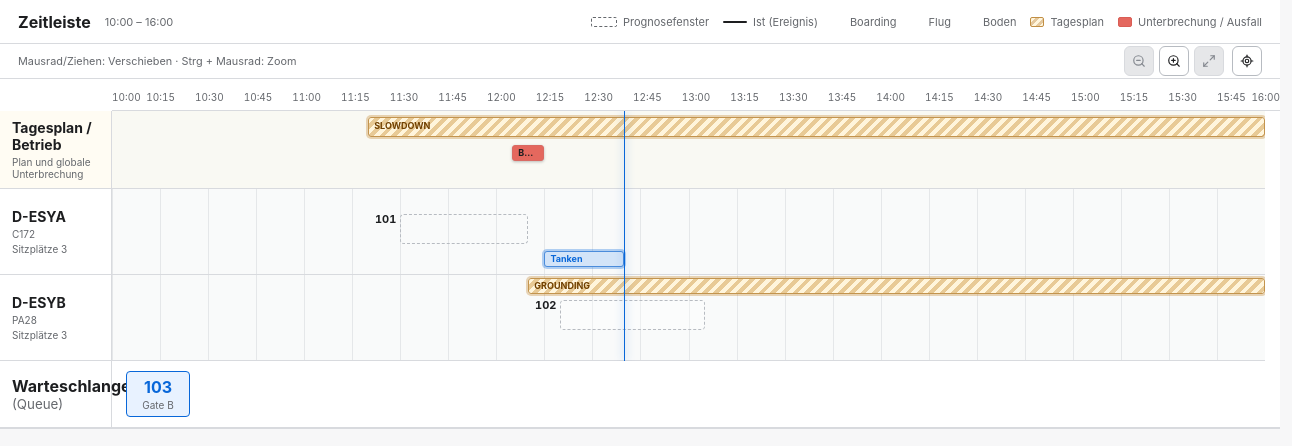
forecast timeline › labels an unavailable boarding forecast without presenting snapshot quality
Focus the button named "103Gate B": (158, 394) [126, 371, 190, 417]
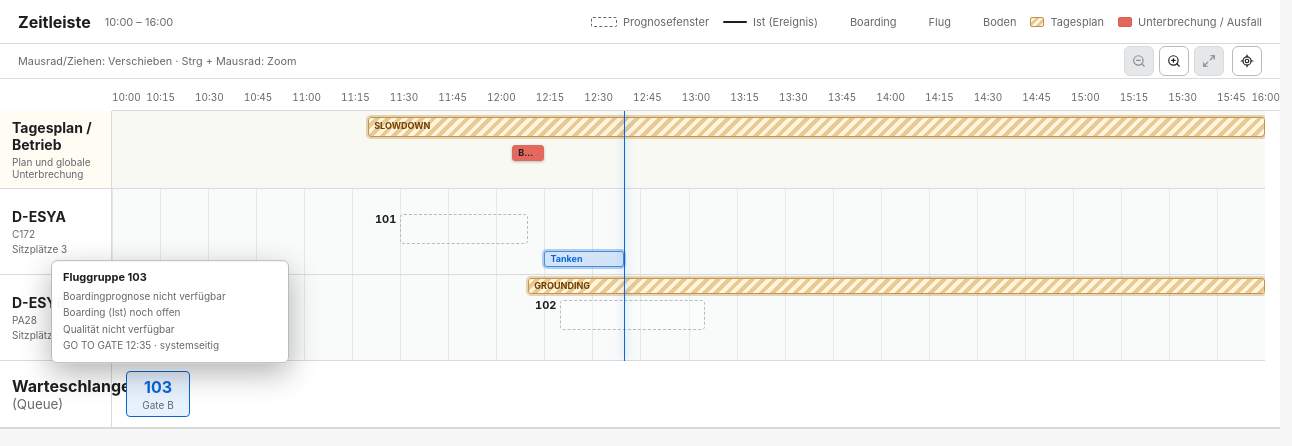
Check: the tooltip shows "Boardingprognose nicht verfügbar", box [63, 290, 226, 302]
Check: the tooltip shows "Qualität nicht verfügbar", box [51, 260, 289, 363]
